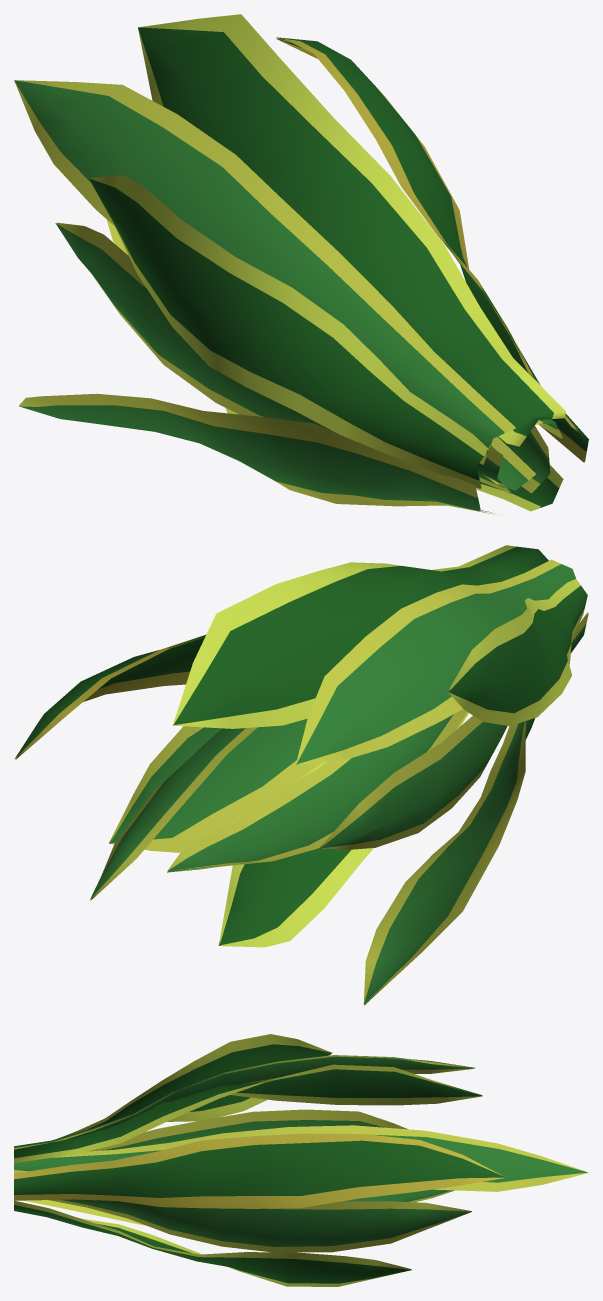
Rendered from tree.glb.
The picture shows the model from 3 angles, top to bottom: view 1: azimuth 30°, elevation 25°; view 2: azimuth 150°, elevation 25°; view 3: azimuth 270°, elevation 25°; orthographic projection. The views are drawn at different scales.
Parts seen in each view (by area): view 1: flower_022; view 2: flower_022; view 3: flower_022.
Boxes of the visible parts, x1,y1,x2,y2 form: flower_022: [14, 14, 588, 514]; flower_022: [15, 545, 588, 1005]; flower_022: [14, 1034, 588, 1286].
Bounding box in the file's own units: 0.8351 × 0.7828 × 1.78.
Materials: 1 (1 with a texture image).
